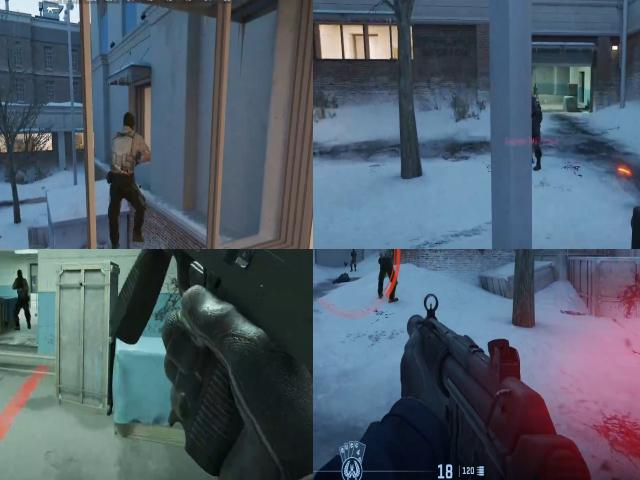CT: (531, 94, 545, 150), (349, 249, 358, 270)
CT-Head: (352, 249, 357, 254)
Dead: (330, 272, 351, 289)
T: (107, 125, 148, 176), (12, 268, 30, 316), (378, 249, 396, 260)
T-Head: (120, 110, 139, 137), (14, 269, 25, 282)
